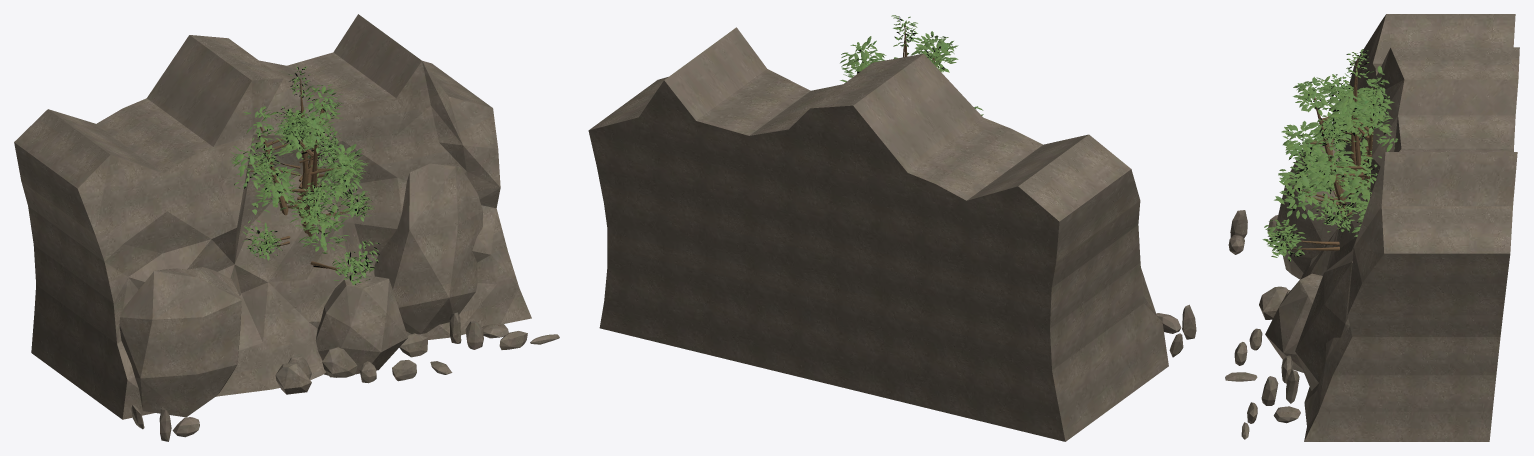
The model's file is lookdev-r4.glb.
3 renders of one model, left to right at view 1: azimuth 30°, elevation 25°; view 2: azimuth 150°, elevation 25°; view 3: azimuth 270°, elevation 25°, orthographic. The views are drawn at different scales.
Visible parts, largest first — view 1: cliff-group-0-lod0, tree-0-1-lod0, tree-0-0-lod0, tree-1-1-lod0, tree-1-0-lod0; view 2: cliff-group-0-lod0, tree-0-1-lod0, tree-0-0-lod0; view 3: cliff-group-0-lod0, tree-0-0-lod0, tree-0-1-lod0, tree-1-1-lod0, tree-1-0-lod0.
Boxes of the visible parts, <box> form: cliff-group-0-lod0: <box>14,14,559,441</box>; tree-0-1-lod0: <box>230,84,364,251</box>; tree-0-0-lod0: <box>233,87,368,253</box>; tree-1-1-lod0: <box>242,66,379,282</box>; tree-1-0-lod0: <box>247,77,379,285</box>; cliff-group-0-lod0: <box>588,27,1196,441</box>; tree-0-1-lod0: <box>841,31,983,115</box>; tree-0-0-lod0: <box>840,36,958,82</box>; cliff-group-0-lod0: <box>1225,14,1519,441</box>; tree-0-0-lod0: <box>1274,77,1394,236</box>; tree-0-1-lod0: <box>1278,65,1397,228</box>; tree-1-1-lod0: <box>1262,49,1390,253</box>; tree-1-0-lod0: <box>1265,59,1388,261</box>.
Size of what is drawn, in the model's own units: 24.03 by 15.89 by 14.23.
9 materials, 9 textured.
